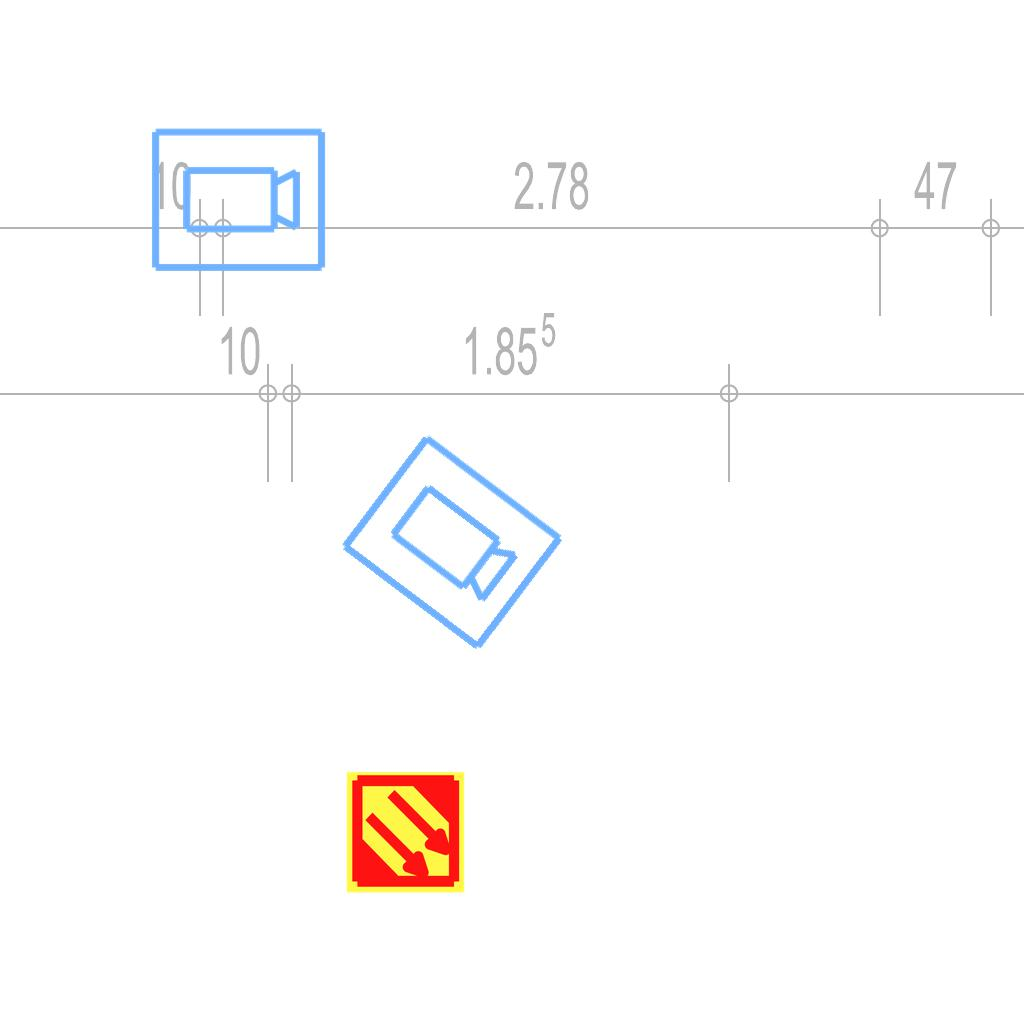ASR_Ansaugrauchmelder: (343, 770, 468, 895)
KFO_Kamera_mit_Festobjektiv: (331, 426, 571, 660), (147, 124, 329, 278)
